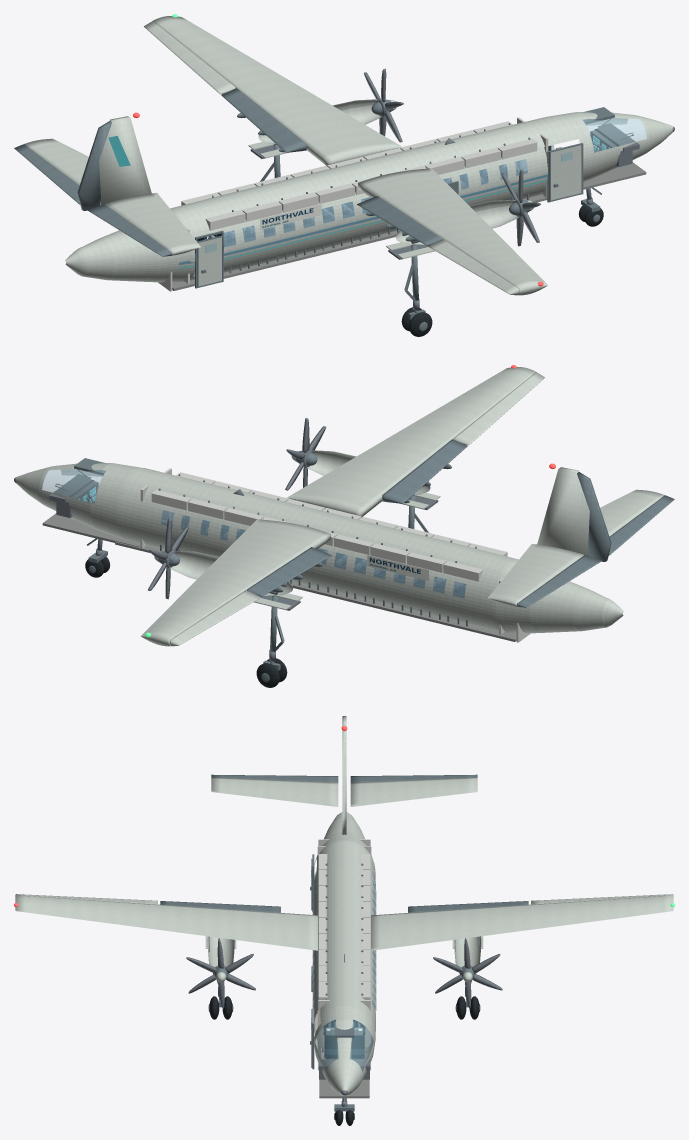
Rendered from PROJECT_Z_K28_Regional_Twin_Turboprop.glb.
The picture shows the model from 3 angles, top to bottom: view 1: azimuth 30°, elevation 25°; view 2: azimuth 150°, elevation 25°; view 3: azimuth 270°, elevation 25°; orthographic projection. The views are drawn at different scales.
Visible parts, largest first — view 1: SM_Fuselage_Outer_paint, SM_Main_Wing_Starboard_Fixed, SM_Main_Wing_Port_Fixed, SM_Cabin_Overhead_Bins_Port, SM_Vertical_Fin_Fixed, SM_Horizontal_Stabilizer_Port, SM_Fuselage_Outer_window, SM_Flap_Starboard_INBD, SM_Cabin_Overhead_Bins_Starboard, SM_Fuselage_Outer_glass, PIVOT_Cabin_Door_Forward_Port_Hinge__PAINT, SM_Fuselage_Interior_window (+18 smaller); view 2: SM_Fuselage_Outer_paint, SM_Main_Wing_Port_Fixed, SM_Main_Wing_Starboard_Fixed, SM_Cabin_Overhead_Bins_Starboard, SM_Vertical_Fin_Fixed, SM_Horizontal_Stabilizer_Starboard, SM_Fuselage_Outer_window, SM_Flap_Port_INBD, SM_Cabin_Floor_Aisle, SM_Cabin_Overhead_Bins_Port, SM_Fuselage_Outer_glass, SM_Fuselage_Interior_window (+15 smaller); view 3: SM_Fuselage_Outer_paint, SM_Main_Wing_Port_Fixed, SM_Main_Wing_Starboard_Fixed, SM_Horizontal_Stabilizer_Port, SM_Horizontal_Stabilizer_Starboard, SM_Fuselage_Outer_glass, SM_Cabin_Overhead_Bins_Port, SM_Cabin_Overhead_Bins_Starboard, PIVOT_Propeller_Port_Spin__DARK, PIVOT_Propeller_Starboard_Spin__DARK, SM_Flap_Port_INBD, SM_Flap_Starboard_INBD (+5 smaller).
Part boxes in pixels (x1,y1,x2,y2): SM_Fuselage_Outer_paint: [65, 112, 672, 282]; SM_Main_Wing_Starboard_Fixed: [153, 16, 401, 166]; SM_Main_Wing_Port_Fixed: [358, 168, 548, 295]; SM_Cabin_Overhead_Bins_Port: [205, 138, 537, 230]; SM_Vertical_Fin_Fixed: [99, 116, 151, 205]; SM_Horizontal_Stabilizer_Port: [104, 193, 200, 255]; SM_Fuselage_Outer_window: [223, 159, 528, 247]; SM_Flap_Starboard_INBD: [221, 88, 306, 152]; SM_Cabin_Overhead_Bins_Starboard: [181, 121, 512, 205]; SM_Fuselage_Outer_glass: [572, 112, 646, 152]; PIVOT_Cabin_Door_Forward_Port_Hinge__PAINT: [551, 145, 581, 200]; SM_Fuselage_Interior_window: [223, 159, 527, 247]; SM_Fuselage_Outer_paint: [16, 463, 623, 633]; SM_Main_Wing_Port_Fixed: [287, 367, 535, 517]; SM_Main_Wing_Starboard_Fixed: [140, 519, 330, 646]; SM_Cabin_Overhead_Bins_Starboard: [151, 489, 483, 581]; SM_Vertical_Fin_Fixed: [537, 467, 589, 556]; SM_Horizontal_Stabilizer_Starboard: [488, 544, 584, 606]; SM_Fuselage_Outer_window: [160, 510, 466, 598]; SM_Flap_Port_INBD: [382, 439, 467, 503]; SM_Cabin_Floor_Aisle: [115, 541, 516, 641]; SM_Cabin_Overhead_Bins_Port: [176, 472, 507, 556]; SM_Fuselage_Outer_glass: [42, 463, 116, 503]; SM_Fuselage_Interior_window: [161, 510, 465, 597]; SM_Fuselage_Outer_paint: [312, 812, 376, 1095]; SM_Main_Wing_Port_Fixed: [15, 895, 317, 950]; SM_Main_Wing_Starboard_Fixed: [371, 895, 673, 950]; SM_Horizontal_Stabilizer_Port: [211, 777, 338, 806]; SM_Horizontal_Stabilizer_Starboard: [350, 777, 477, 806]; SM_Fuselage_Outer_glass: [315, 1020, 373, 1071]; SM_Cabin_Overhead_Bins_Port: [318, 854, 327, 999]; SM_Cabin_Overhead_Bins_Starboard: [361, 854, 370, 999]; PIVOT_Propeller_Port_Spin__DARK: [186, 938, 255, 1009]; PIVOT_Propeller_Starboard_Spin__DARK: [433, 938, 502, 1009]; SM_Flap_Port_INBD: [160, 901, 280, 912]; SM_Flap_Starboard_INBD: [408, 901, 528, 912].
Size of the model in its own units: 25.89 by 9.02 by 27.08.
Materials: 17 (5 with a texture image).
